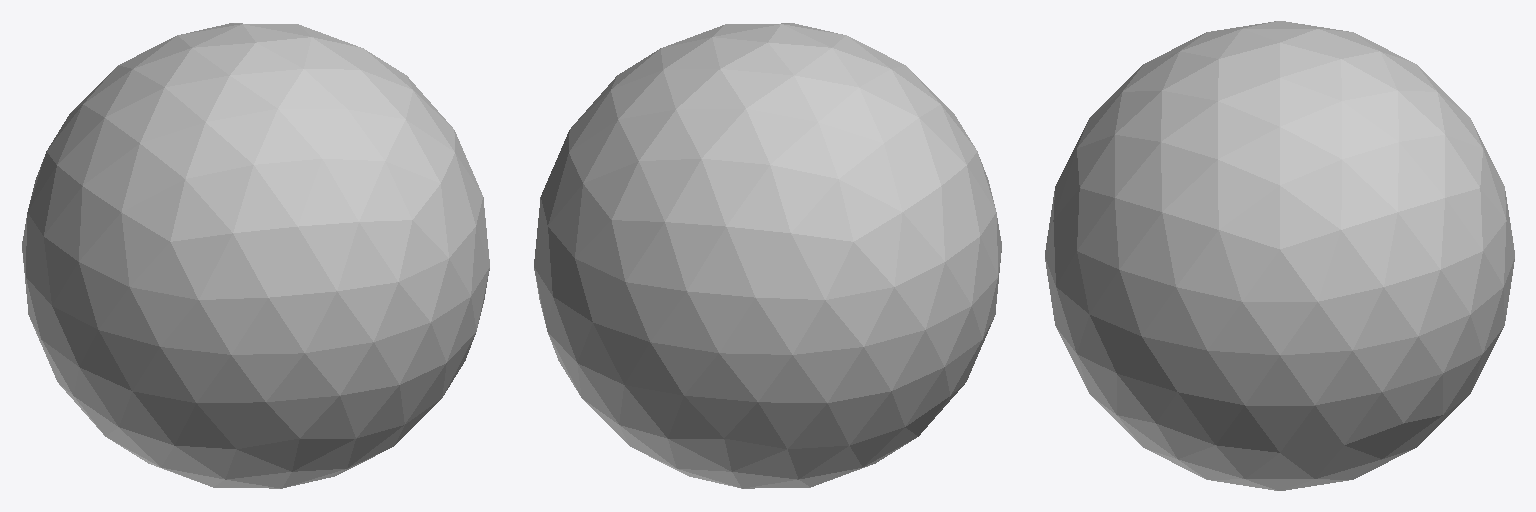
The picture shows the model from 3 angles: view 1: azimuth 30°, elevation 25°; view 2: azimuth 150°, elevation 25°; view 3: azimuth 270°, elevation 25°; orthographic projection.
Visible parts, largest first — view 1: GeoSphere001; view 2: GeoSphere001; view 3: GeoSphere001.
Part boxes in pixels (bbox=[...]): GeoSphere001: bbox=[22, 23, 489, 488]; GeoSphere001: bbox=[534, 23, 1001, 488]; GeoSphere001: bbox=[1045, 21, 1514, 490].
Bounding box in the file's own units: 1 × 1 × 1.